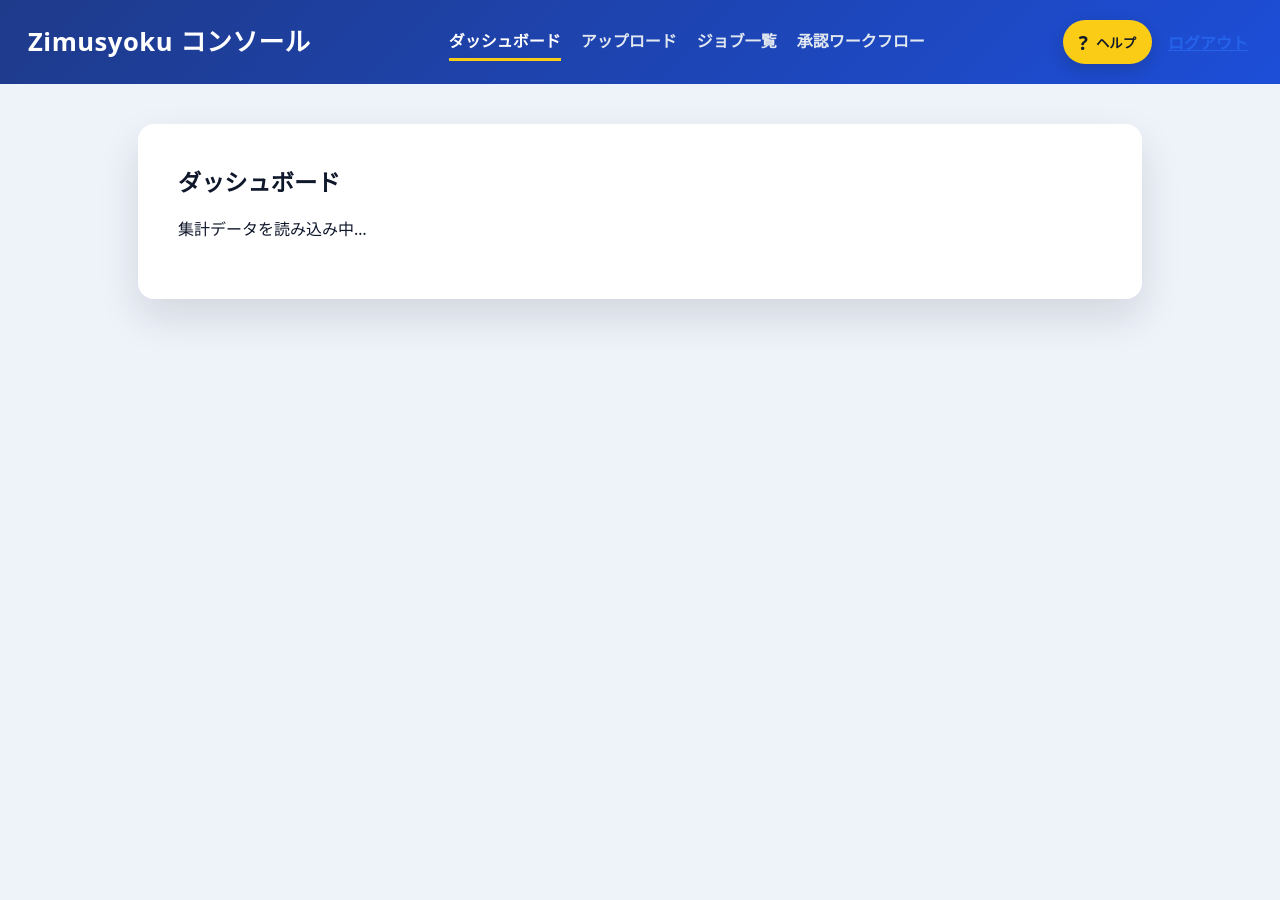
Scenario: App shell › opens and closes the help modal
The width and height of the screenshot is (1280, 900).
Click the button "? ヘルプ": (1107, 42) [1063,20,1152,64]
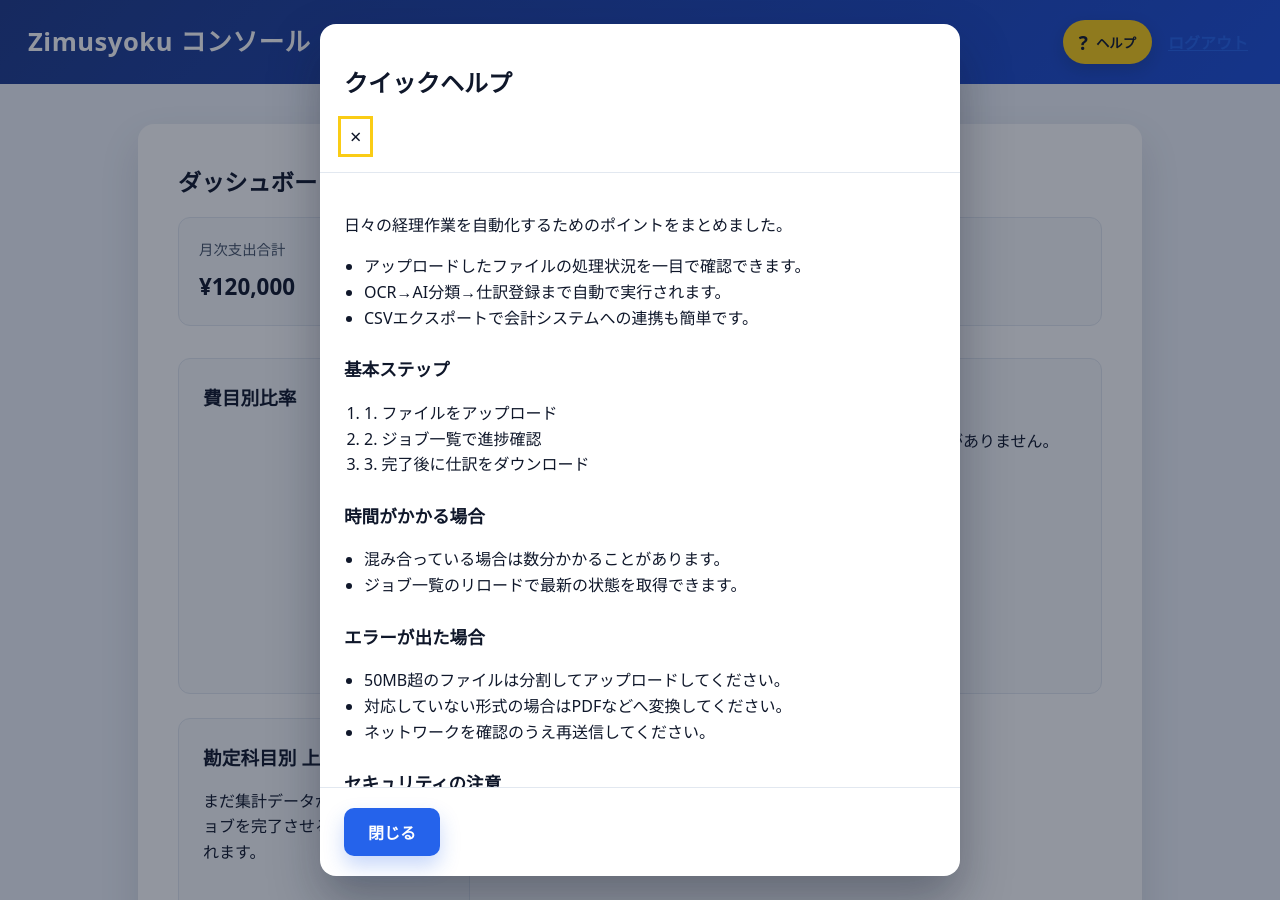
Result: the dialog is shown at [320,24,960,876]
Click the button named "閉じる": (356, 137) [344,122,368,151]
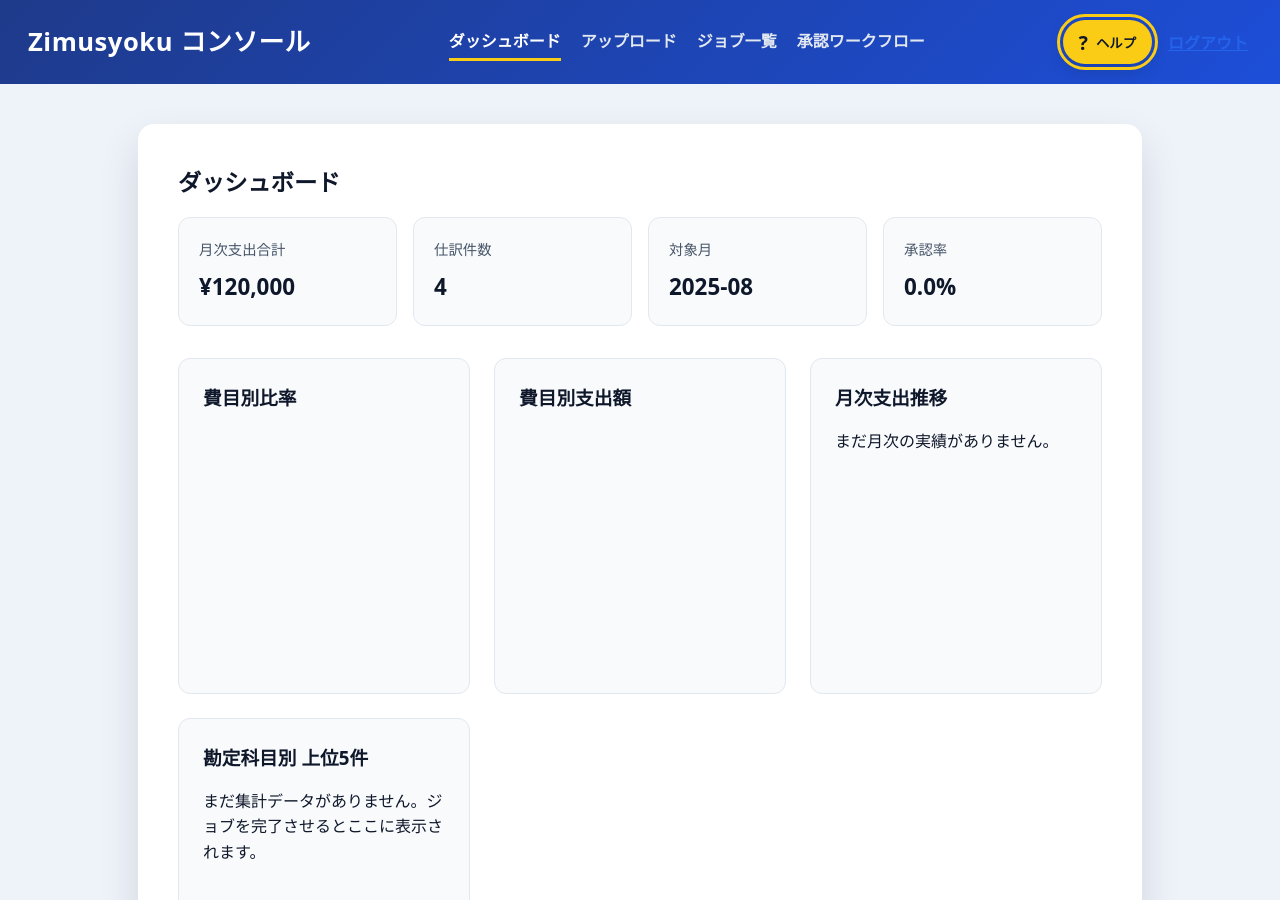
Result: the dialog is gone
